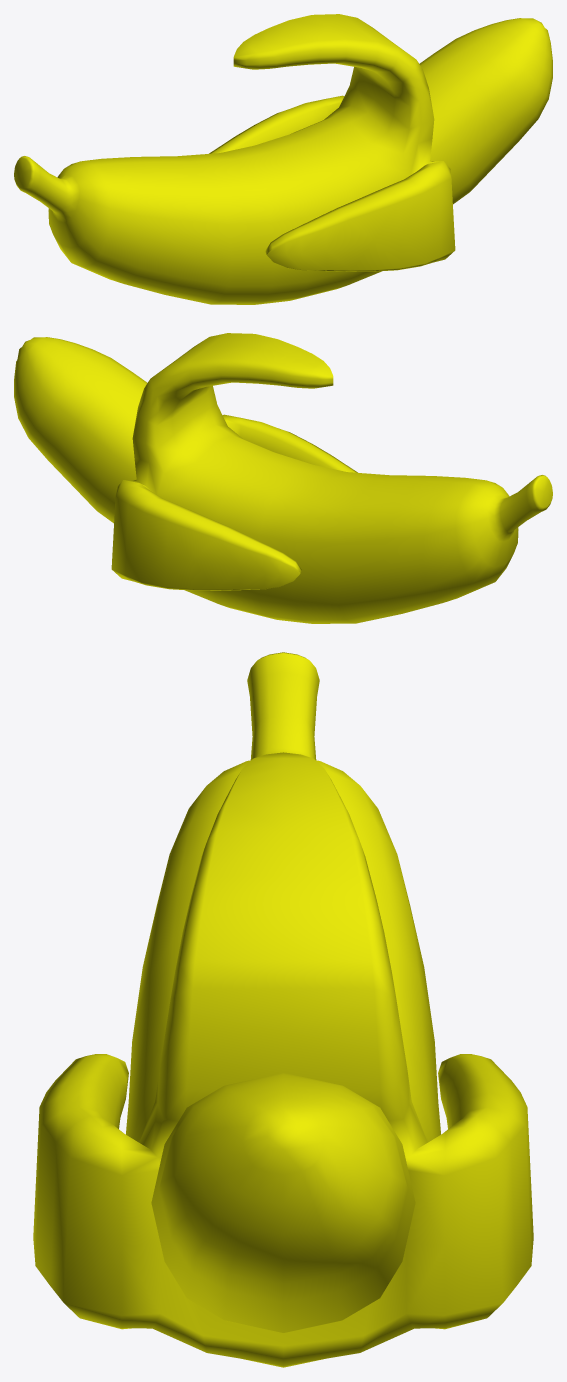
File: Monster Mash - Torso 8.fbx
The picture shows the model from 3 angles, top to bottom: view 1: azimuth 30°, elevation 25°; view 2: azimuth 150°, elevation 25°; view 3: azimuth 270°, elevation 25°; orthographic projection. The views are drawn at different scales.
Visible parts, largest first — view 1: peel, banana; view 2: peel, banana; view 3: peel, banana.
Boxes of the visible parts, left/top/right/bottom form: peel: left=14, top=14, right=455, bottom=304; banana: left=419, top=18, right=552, bottom=204; peel: left=111, top=333, right=552, bottom=623; banana: left=14, top=337, right=147, bottom=523; peel: left=33, top=652, right=533, bottom=1367; banana: left=151, top=1073, right=415, bottom=1333.
Bounding box in the file's own units: 287 × 134 × 118.
